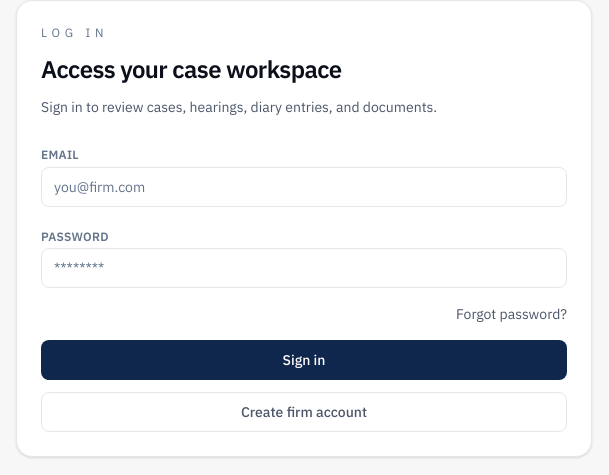
Test: login page › signs in and opens the workspace
Type "rahim@example.test" into the field labelled "Email" at point(304, 187), box top-left (41, 167), bottom-right (567, 207)
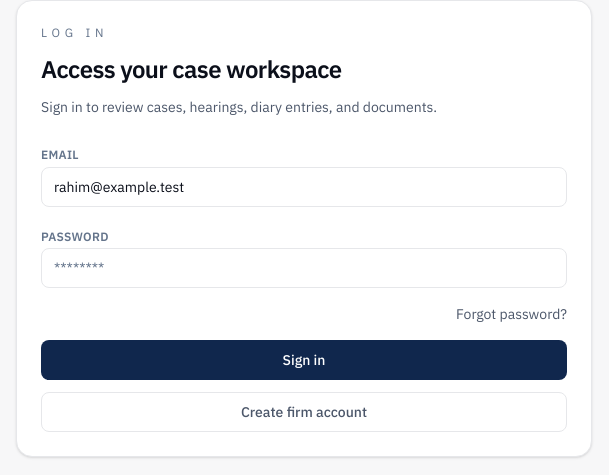
Type "secret-pass" into the password field labelled "Password" at point(304, 268), box top-left (41, 248), bottom-right (567, 288)
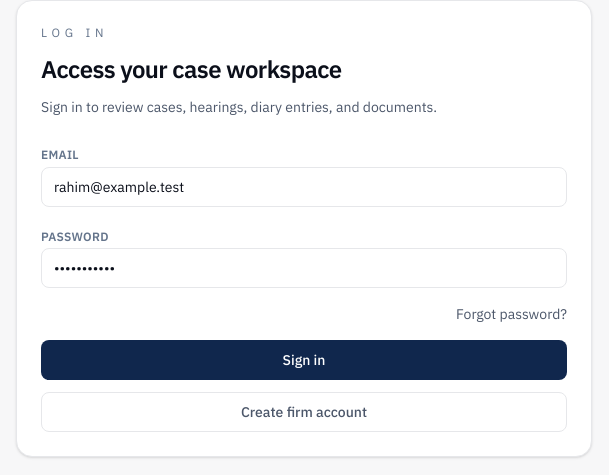
Click the button "Sign in" at point(304, 360), box top-left (41, 340), bottom-right (567, 380)
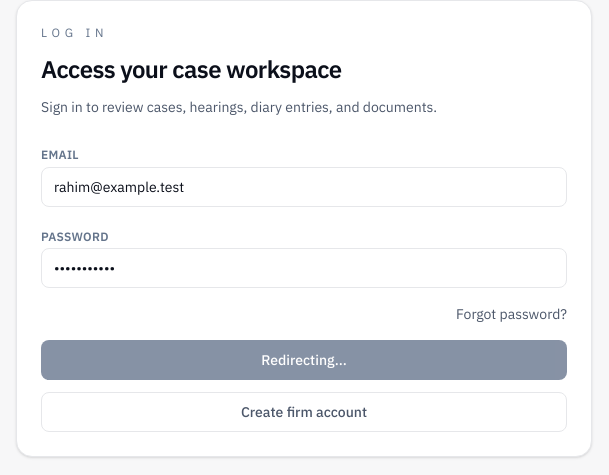
Expected: the button "Redirecting..." is disabled, top-left (41, 340), bottom-right (567, 380)
